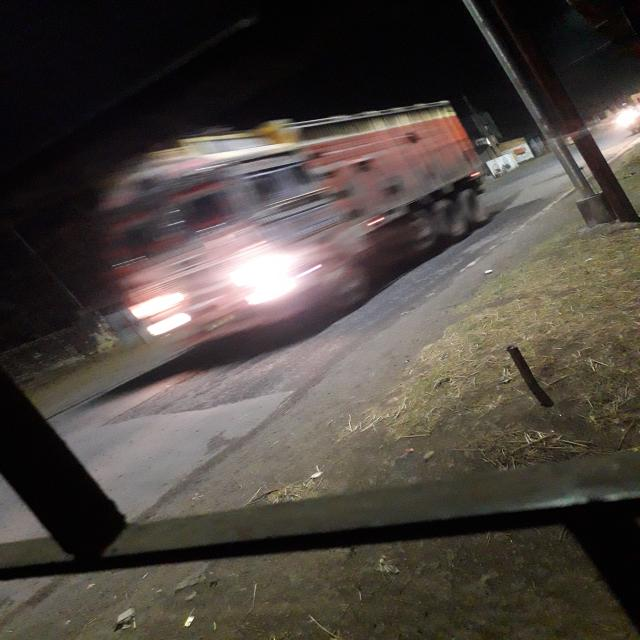Truck: (84, 76, 506, 357)
